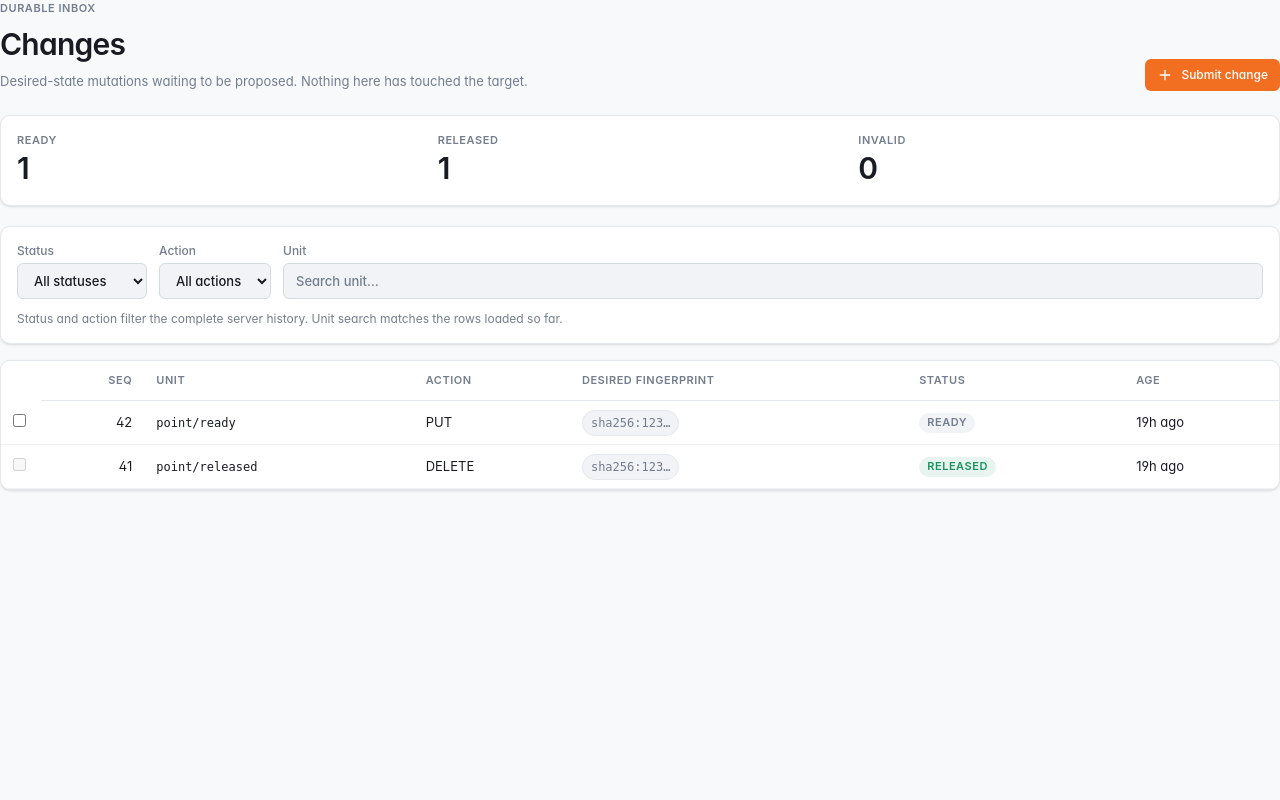
Test: ChangesPage › keeps server-filtered rows during refetch, searches loaded units, and opens row detail
Select "READY" in the dropdown named "Filter by status": (82, 280) [17,262,147,298]
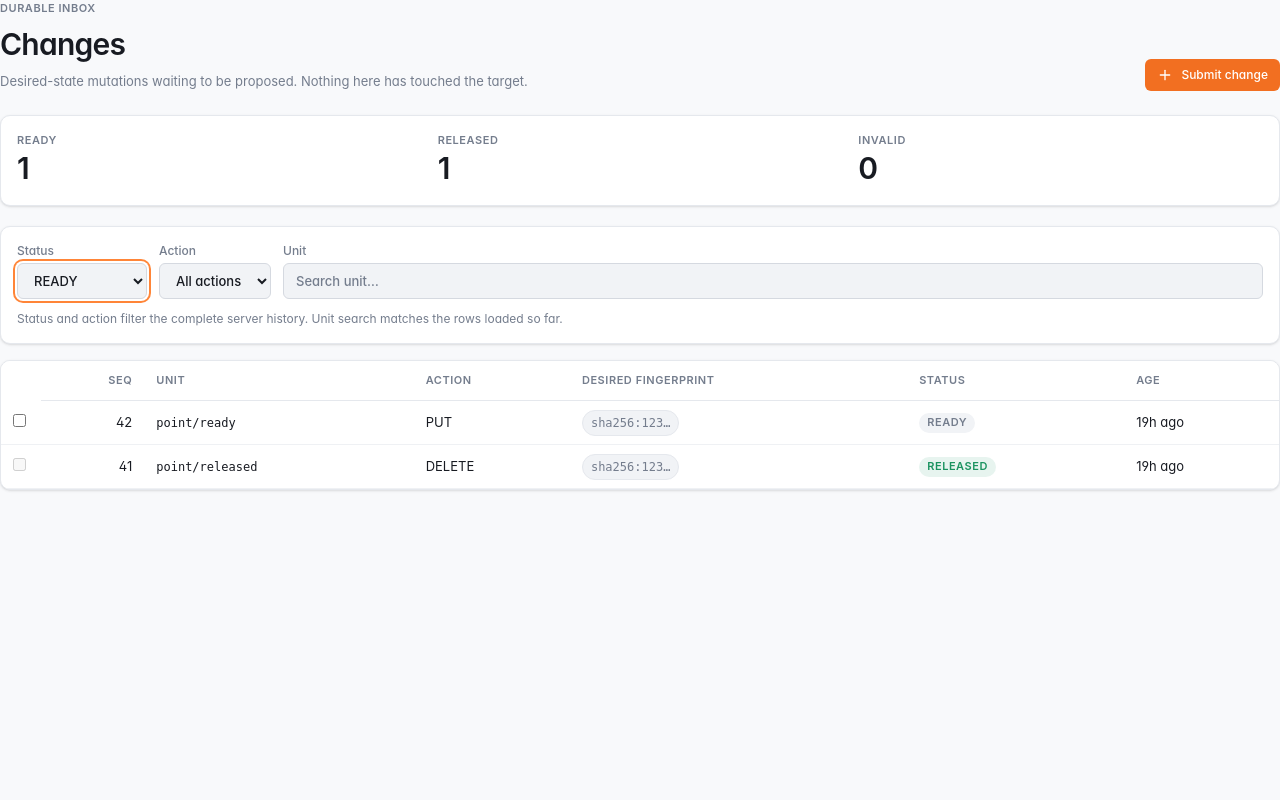
expect the text "point/ready" is shown: met, box [144,401,414,445]
expect the text "point/released" is shown: met, box [144,445,414,489]
Select "All statuses" in the dropdown named "Filter by status": (82, 280) [17,262,147,298]
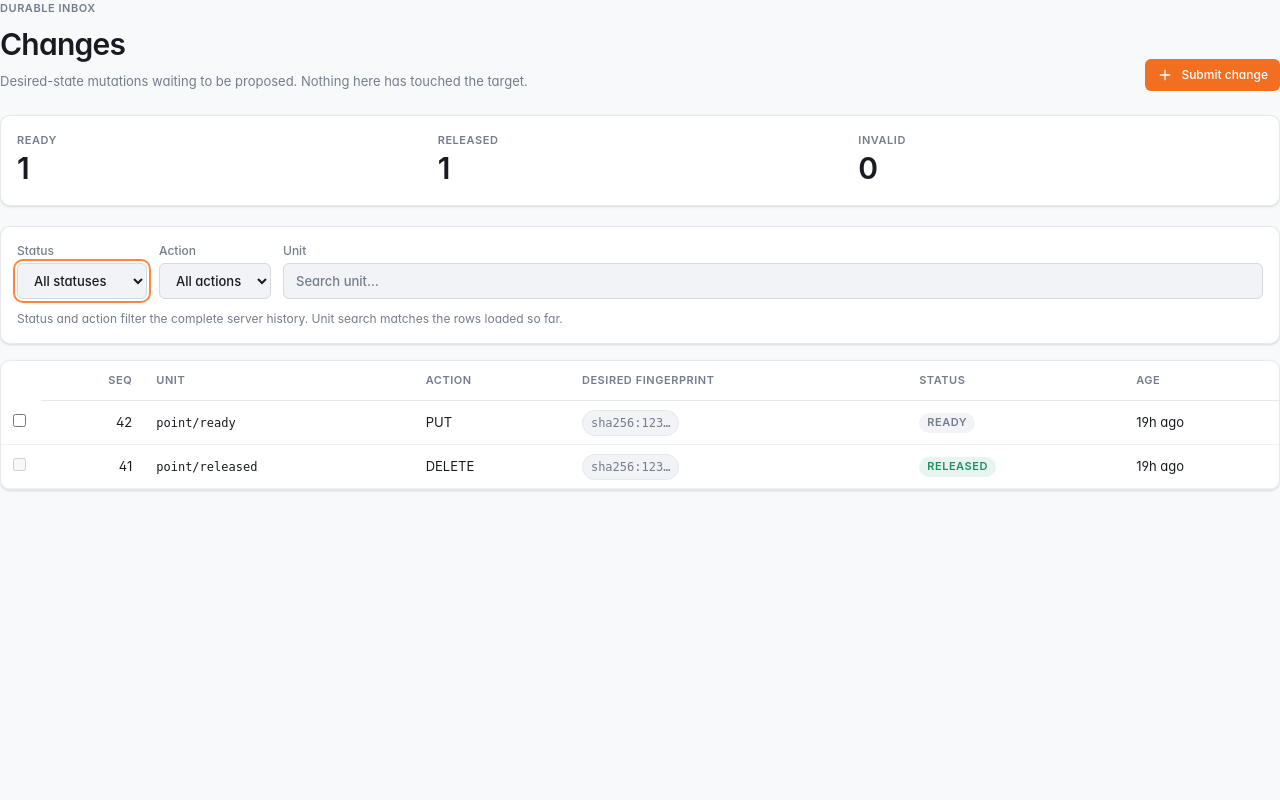
In the field named "Search units": (773, 280) [283,262,1263,298], type "released"
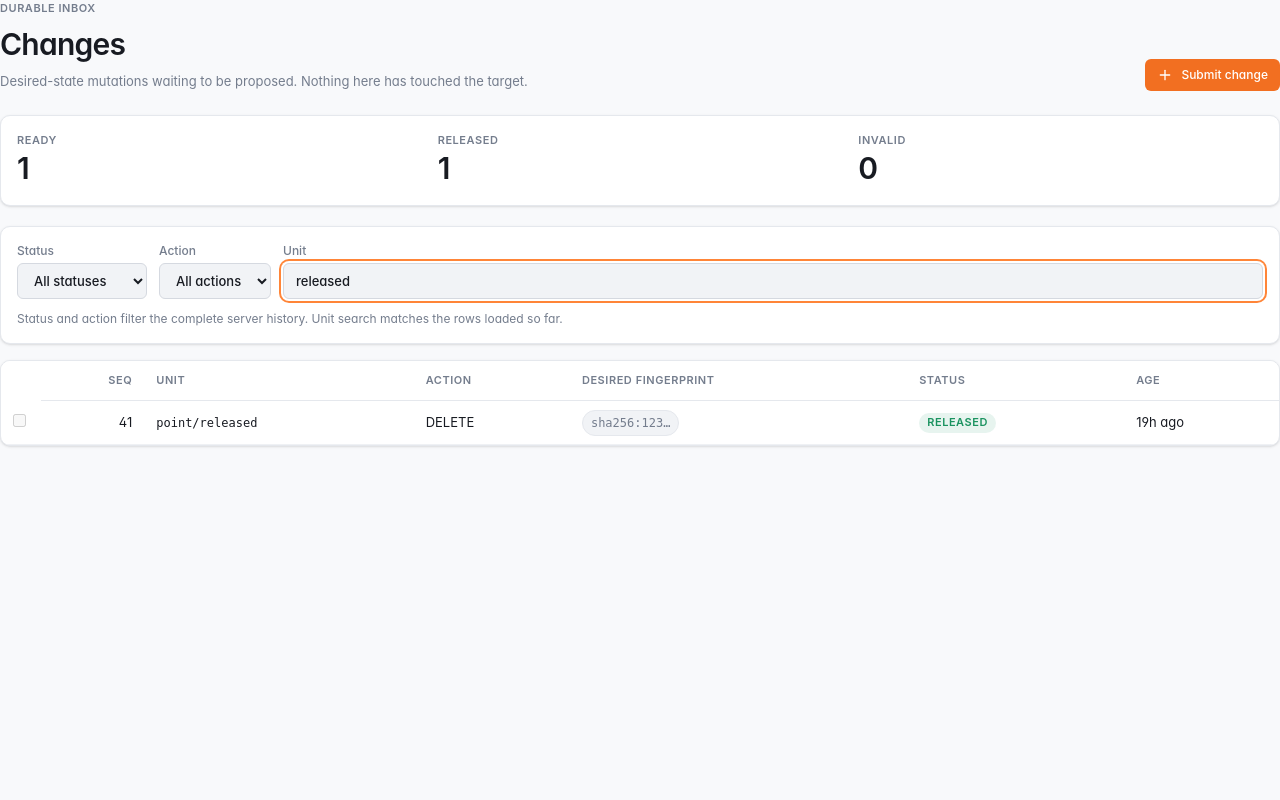
expect the text "point/ready" is gone: met
Clear the field named "Search units": (773, 280) [283,262,1263,298]
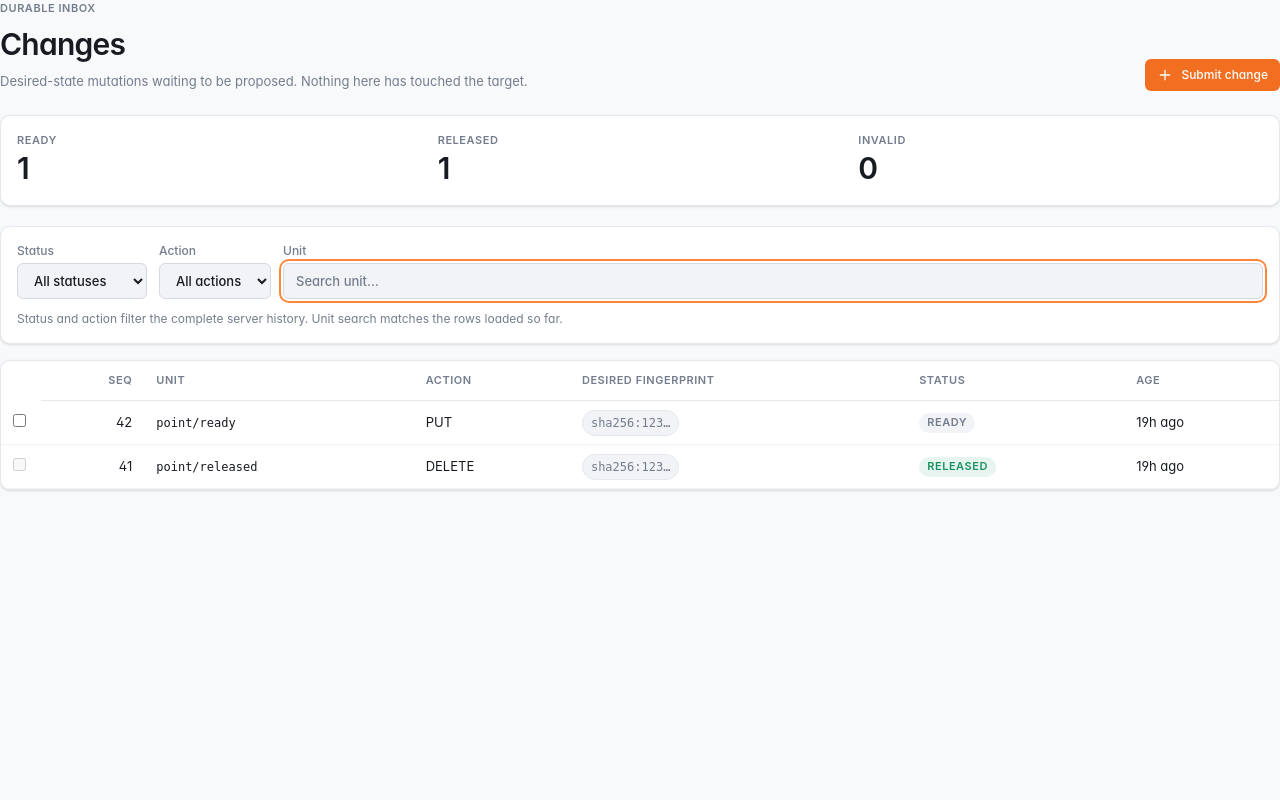
Click the cell "point/ready": (196, 423) [144,401,414,445]
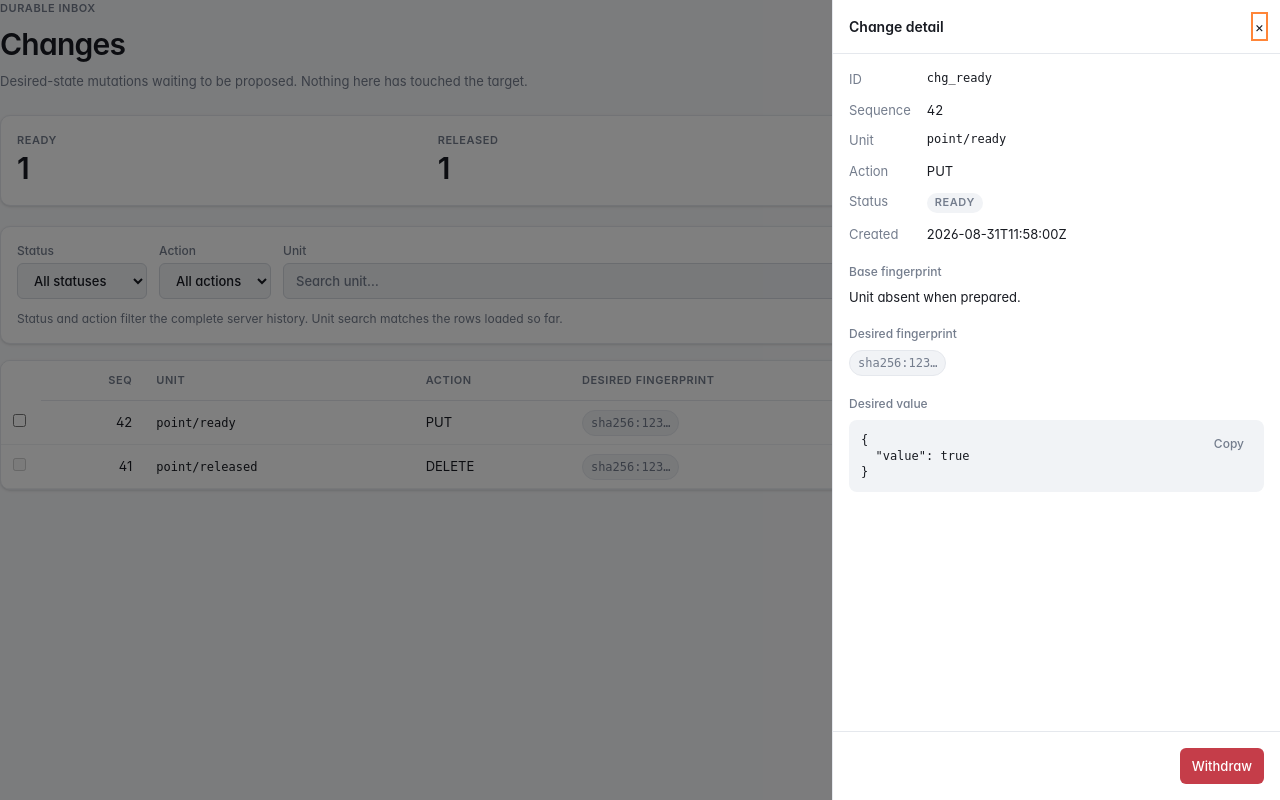
expect the button titled "sha256:123456789abcdef" is shown: met, box [849,350,946,376]
